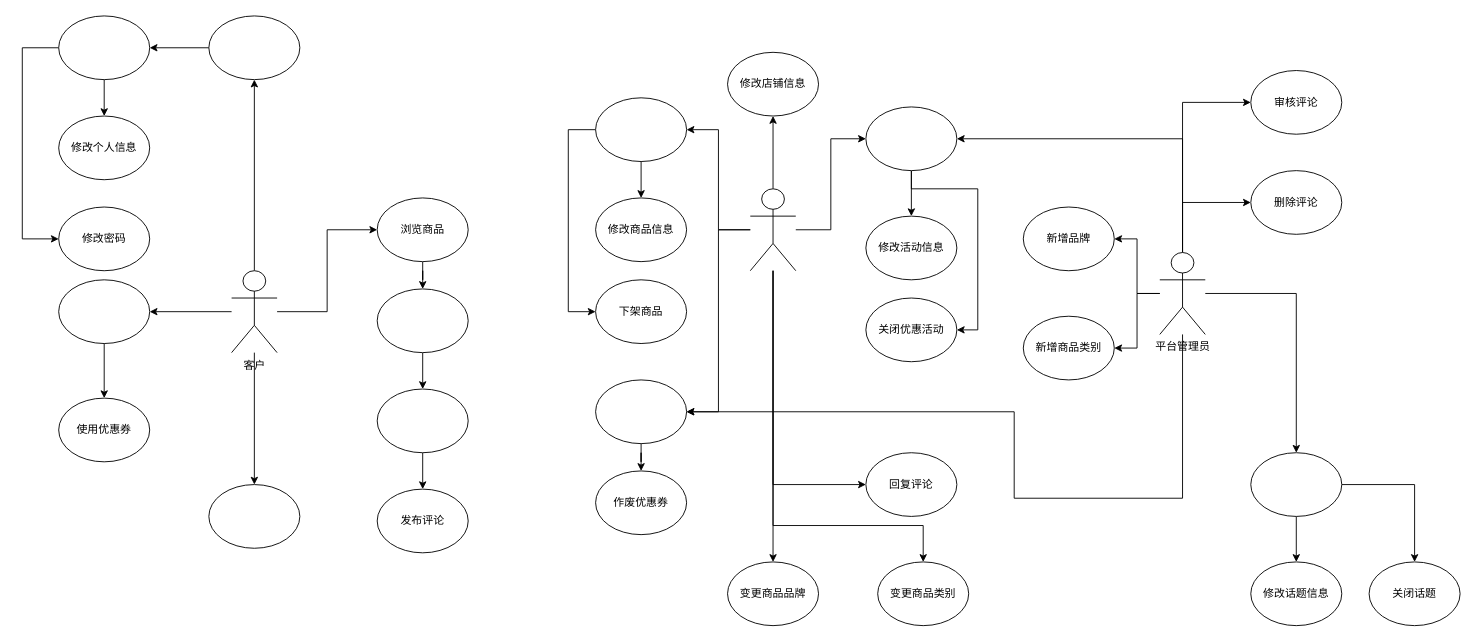
This 1476x642 diagram has some shape labels left out. The shapes that lost their labels are listed below. From the top down, each one's centre as x and y in pixels, then its label:
(x=104, y=47): 登陆
(x=254, y=47): 注册
(x=641, y=129): 上架商品
(x=911, y=138): 开启优惠活动
(x=772, y=229): 商家管理员
(x=104, y=311): 领取优惠券
(x=422, y=320): 添加商品至购物车
(x=422, y=420): 购买商品
(x=641, y=411): 发放优惠券
(x=1296, y=484): 开启话题
(x=254, y=516): 收藏商品
